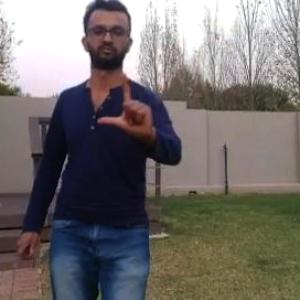land_hand: (96, 70, 159, 138)
